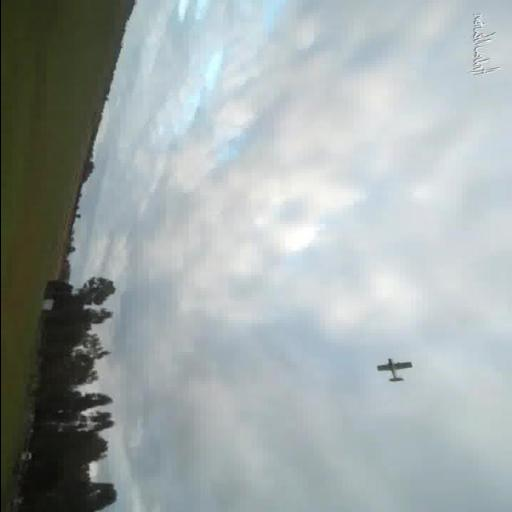uav: (364, 356, 419, 386)
